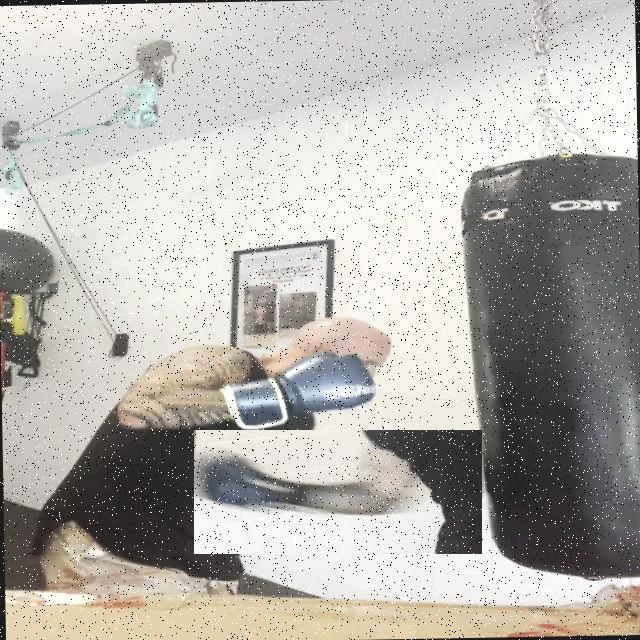punch: (194, 430, 482, 554)
